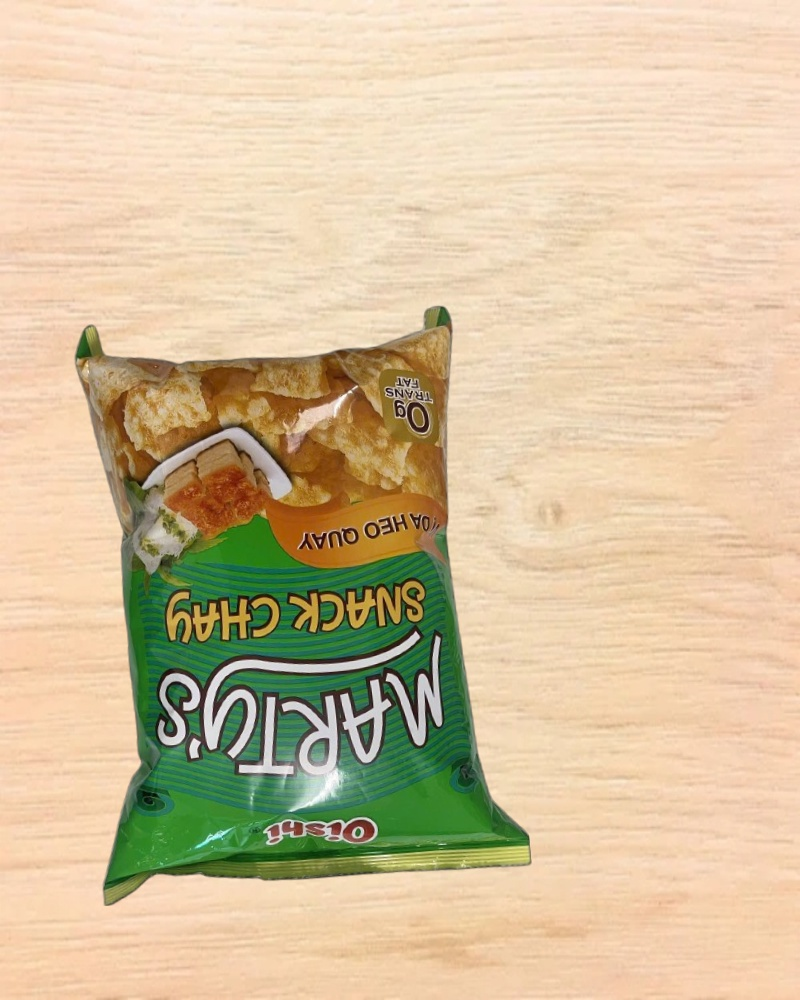Snack chay: (75, 293, 531, 905)
